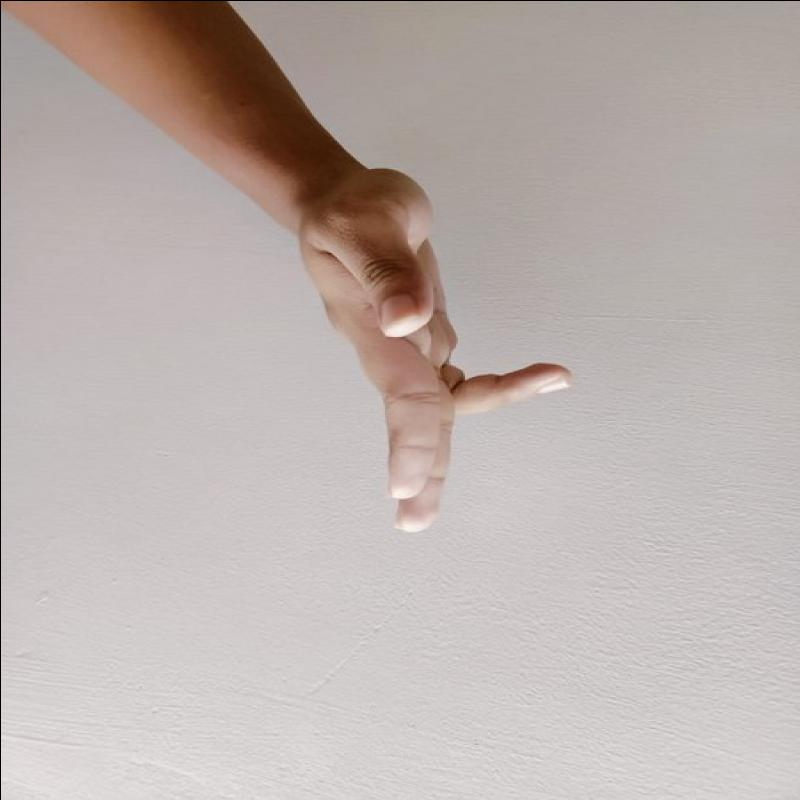Pathaaka: (287, 162, 581, 545)
